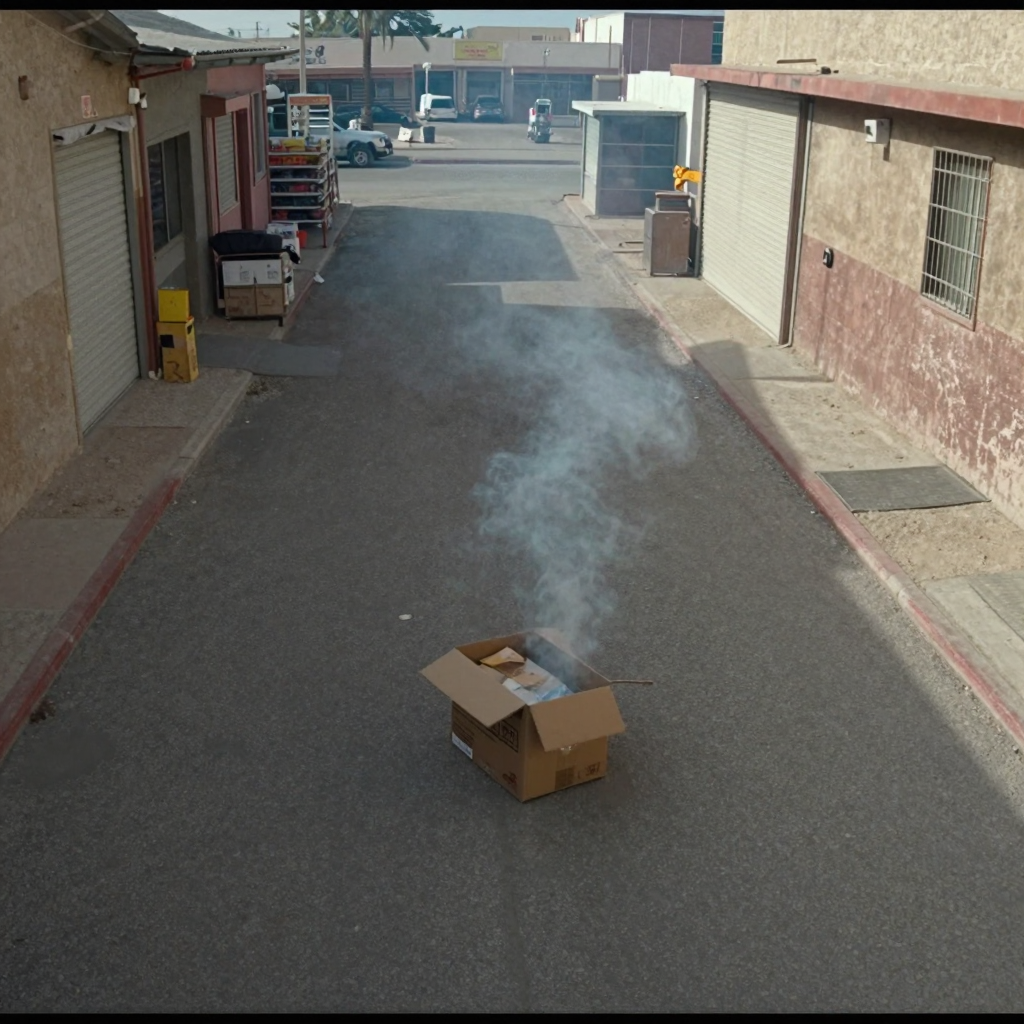Explosion: (488, 323, 658, 689)
